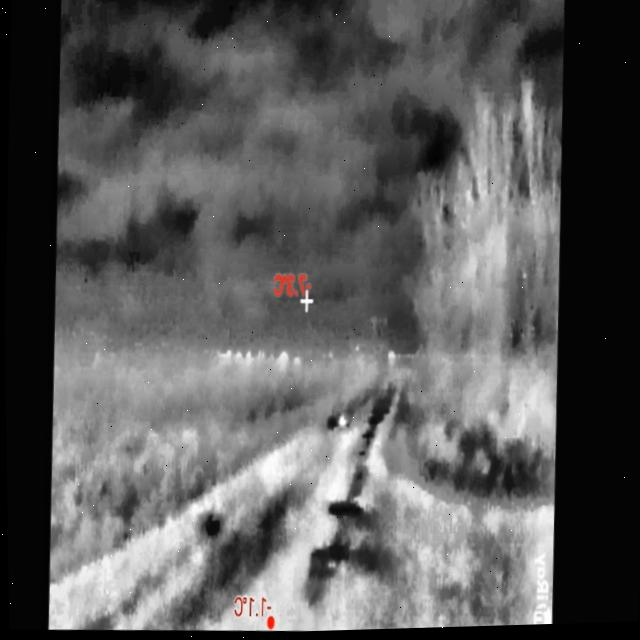drone: (334, 414, 347, 431)
